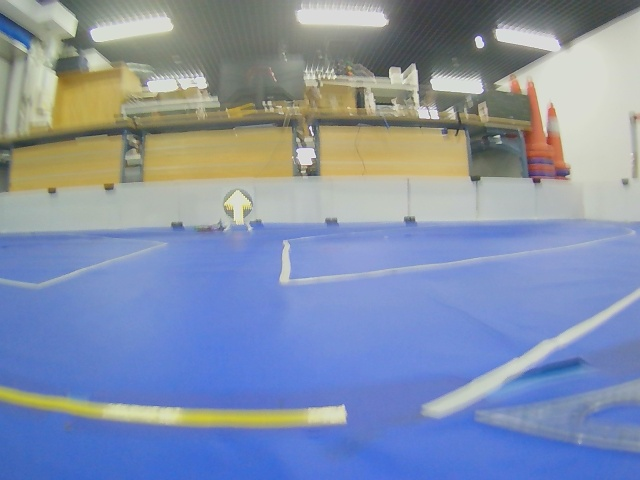straight_yellow: (222, 187, 254, 222)
